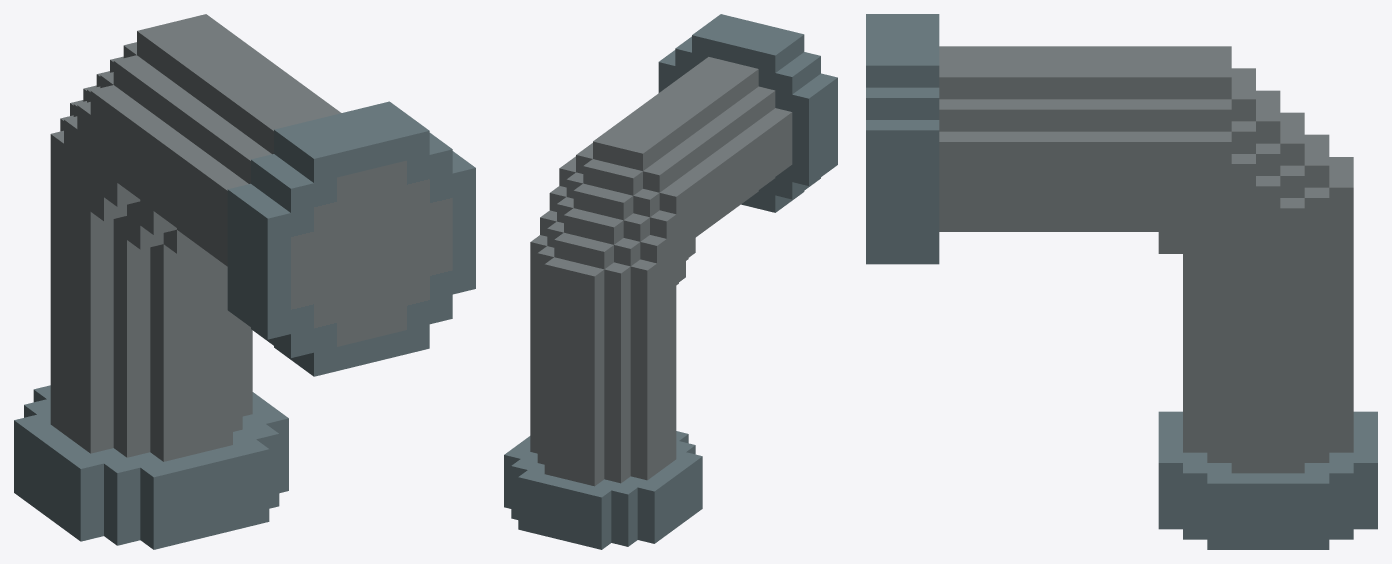
Rendered from RURA_SKOS_L.dae.
3 views of the same model, side by side, from view 1: azimuth 30°, elevation 25°; view 2: azimuth 150°, elevation 25°; view 3: azimuth 270°, elevation 25° (orthographic). The views are drawn at different scales.
Visible parts, largest first — view 1: Content; view 2: Content; view 3: Content.
Boxes of the visible parts, left/top/right/bottom form: Content: left=14, top=14, right=475, bottom=549; Content: left=504, top=14, right=837, bottom=549; Content: left=866, top=14, right=1377, bottom=549.
Bounding box in the file's own units: 9 × 21 × 21.
Materials: 1 (1 with a texture image).
